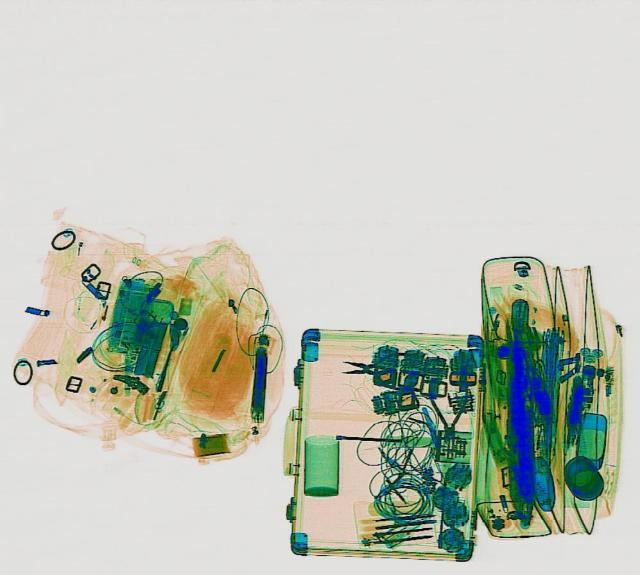Pliers: (336, 348, 414, 391), (428, 387, 470, 444)
